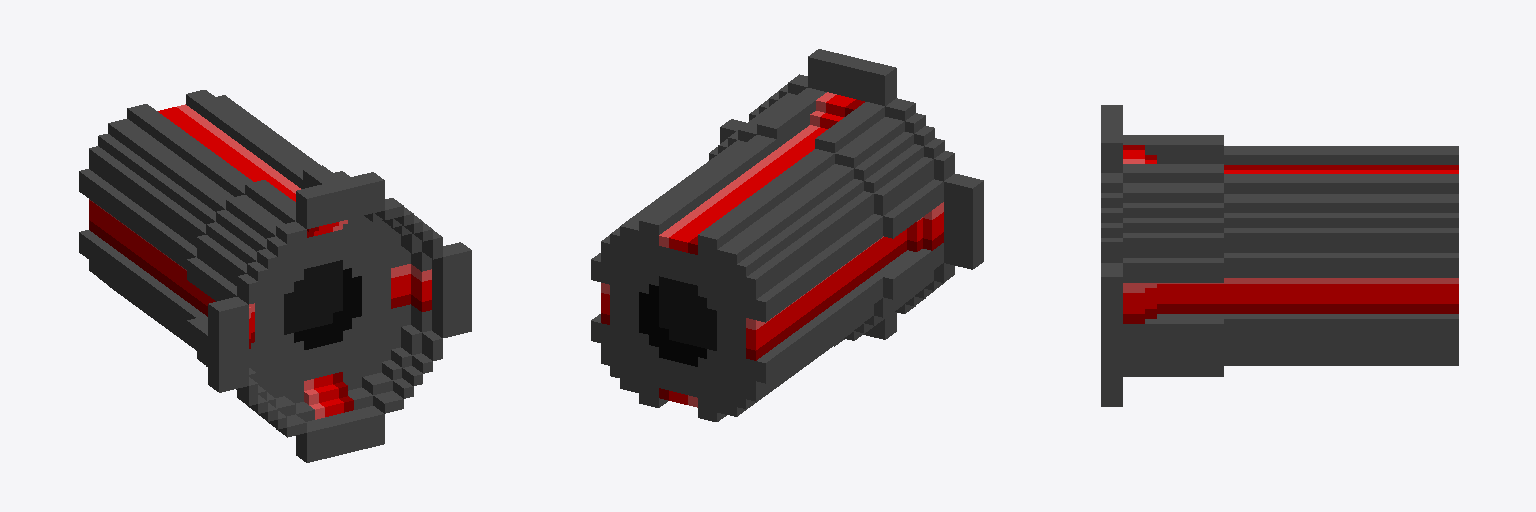
3 renders of one model, left to right at view 1: azimuth 30°, elevation 25°; view 2: azimuth 150°, elevation 25°; view 3: azimuth 270°, elevation 25°, orthographic.
Visible parts, largest first — view 1: object 1; view 2: object 1; view 3: object 1.
Part boxes in pixels (bbox=[...]): object 1: bbox=[79, 90, 471, 462]; object 1: bbox=[591, 49, 983, 421]; object 1: bbox=[1101, 105, 1458, 406].
Size of the model in its own units: 2.6 by 2.6 by 3.2.
Materials: 1 (1 with a texture image).